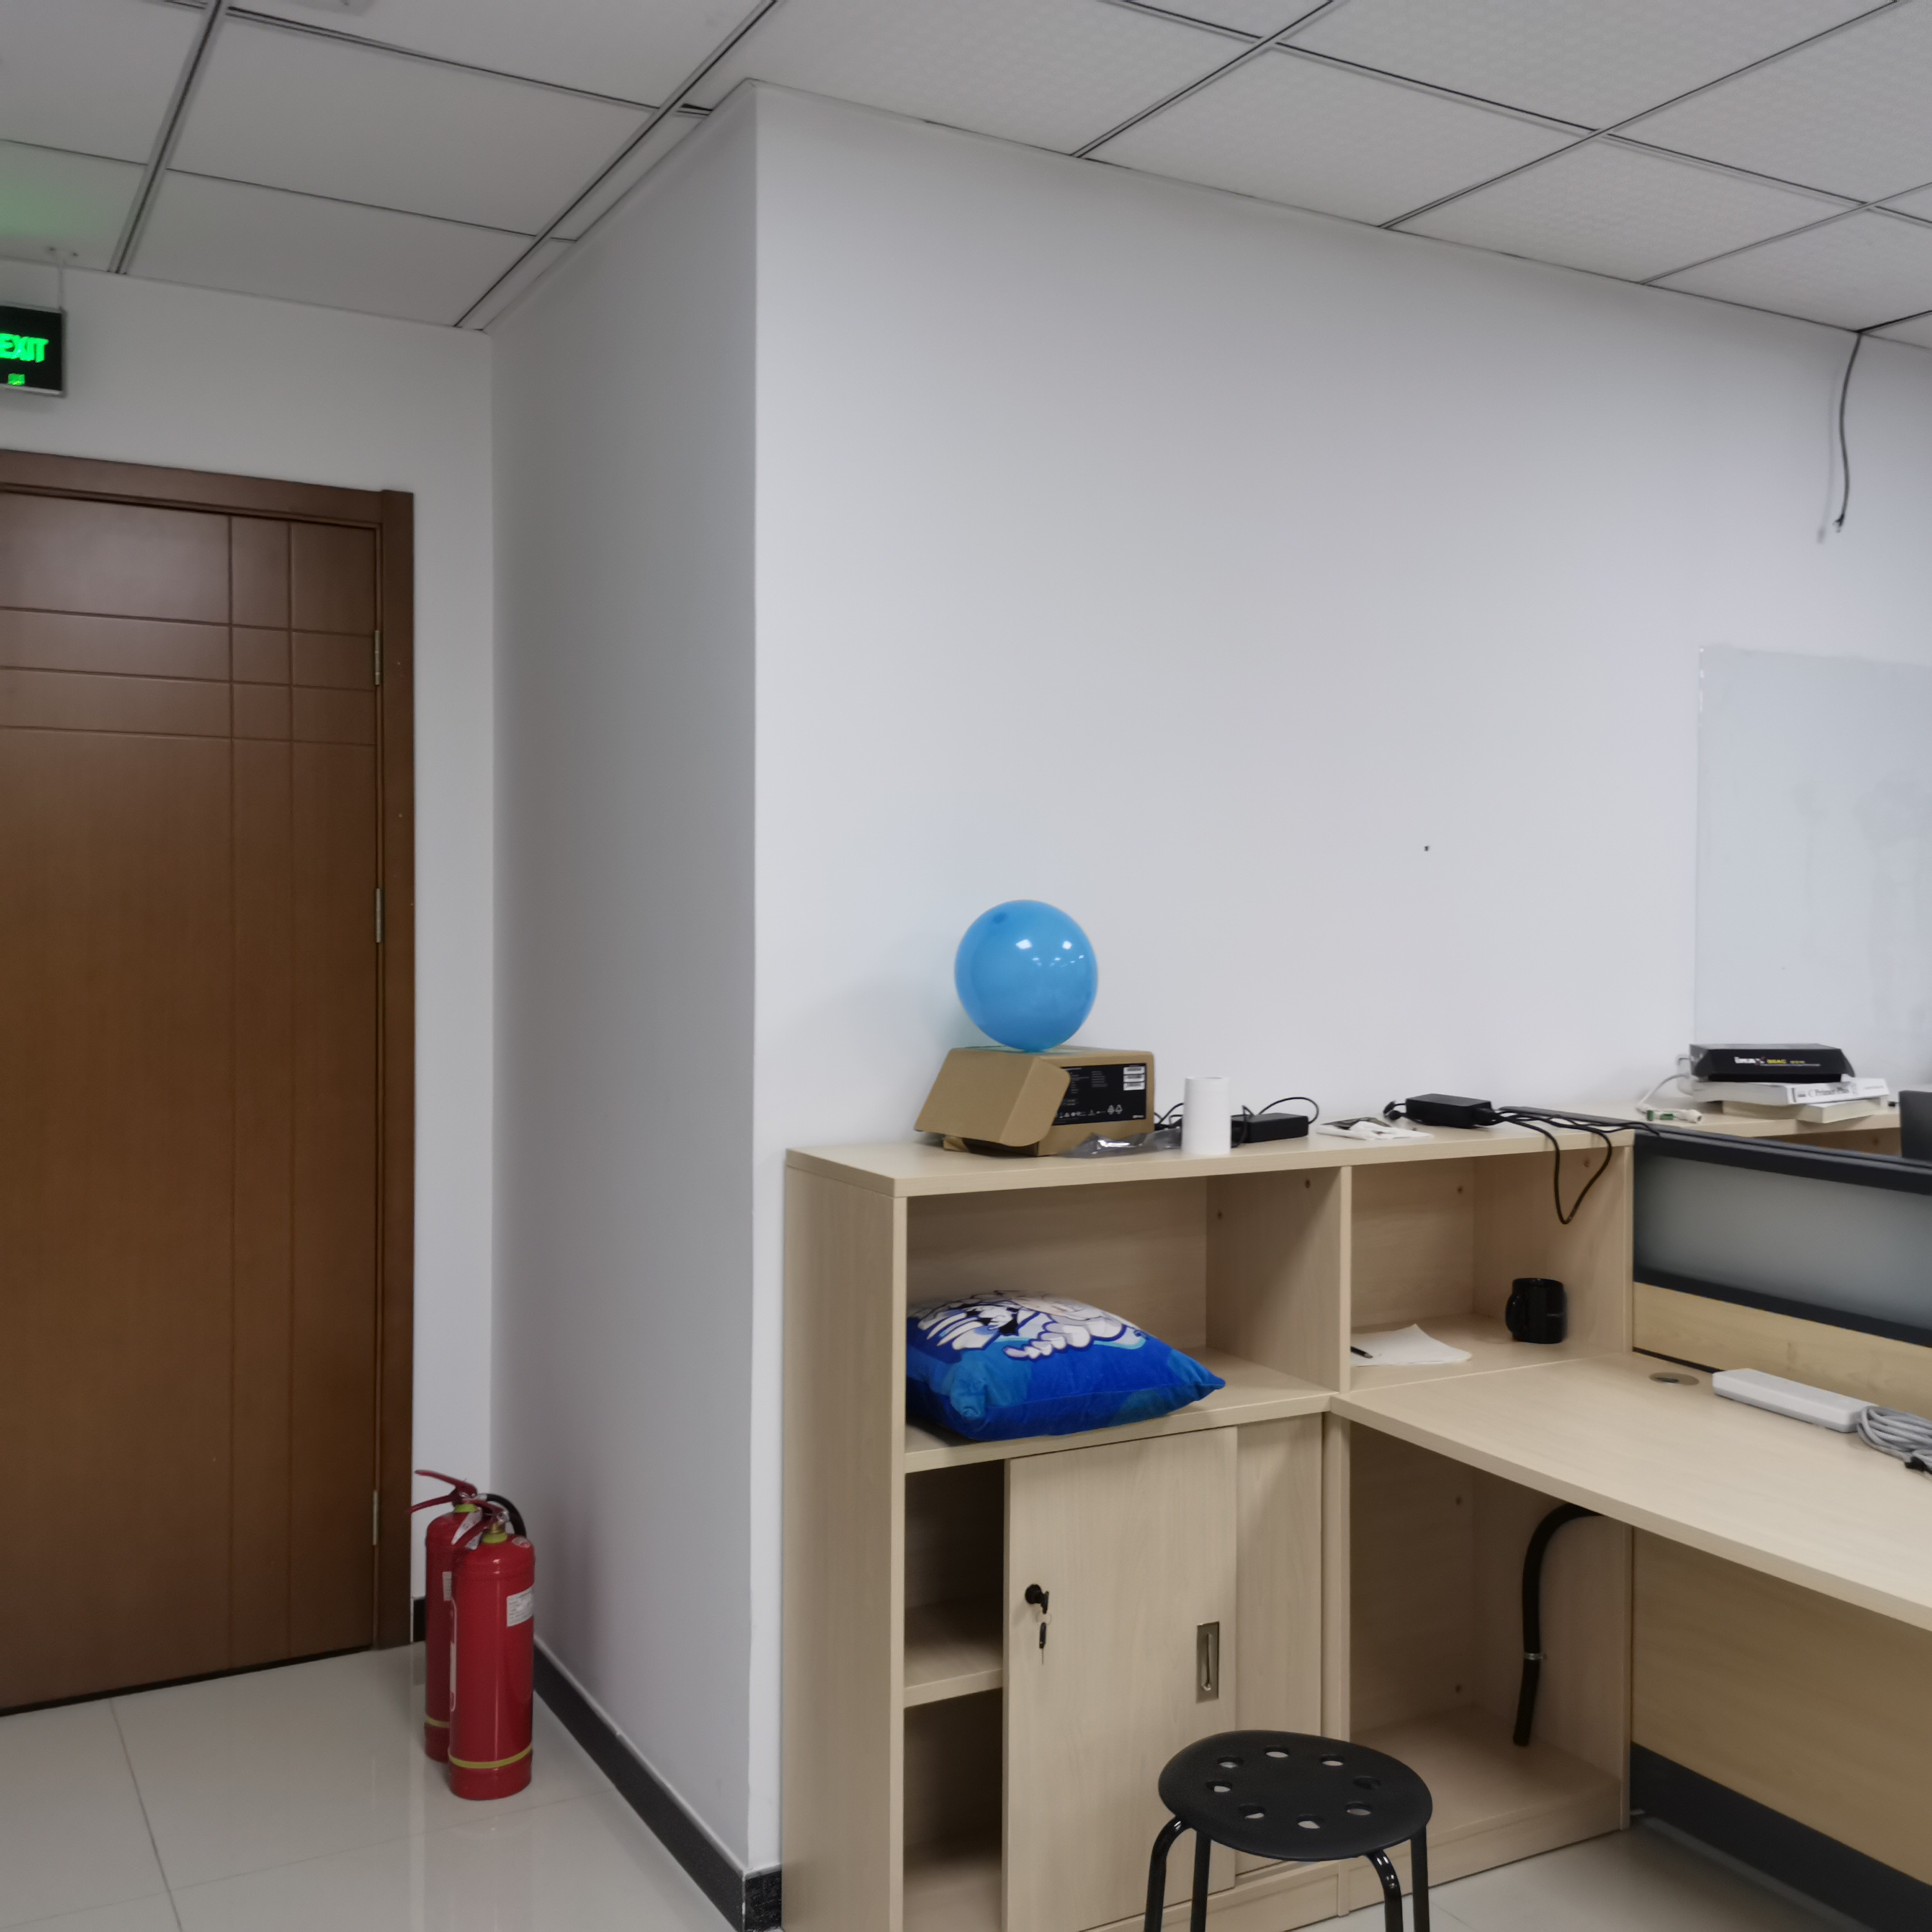balloon: (954, 899, 1099, 1056)
